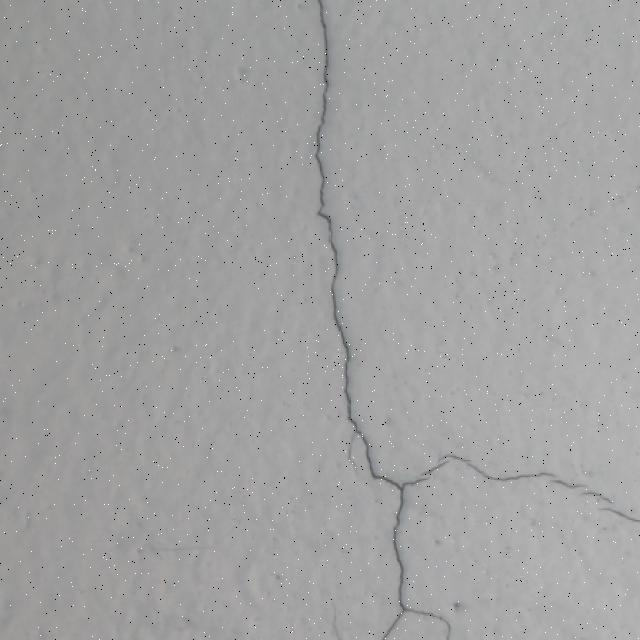moderate crack: (402, 449, 631, 536), (367, 473, 450, 632), (308, 0, 332, 159), (459, 464, 554, 485), (378, 612, 405, 636)
severe crack: (342, 405, 385, 472), (592, 499, 638, 524), (329, 602, 352, 638), (368, 467, 400, 487)
